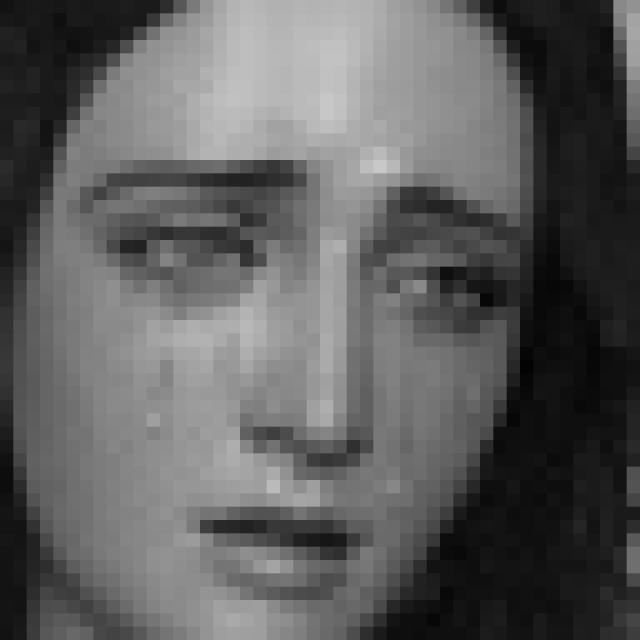sad: (84, 152, 519, 596)
